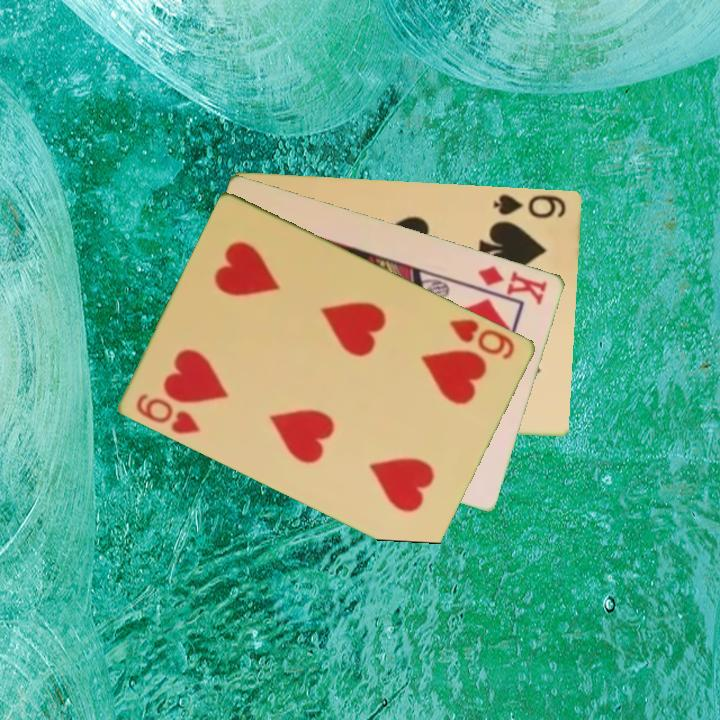6h: (446, 315, 519, 363), (133, 390, 204, 437)
6s: (490, 190, 569, 221)
Kd: (467, 262, 551, 307)
